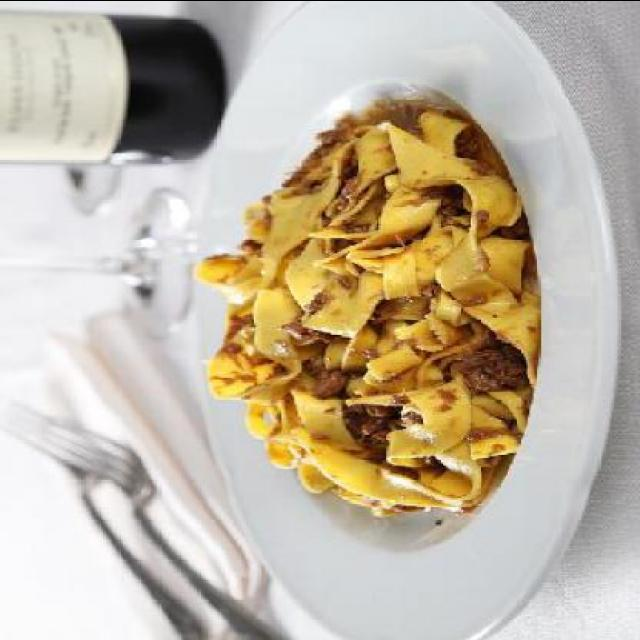Pasta al ragu: (156, 61, 544, 544)
